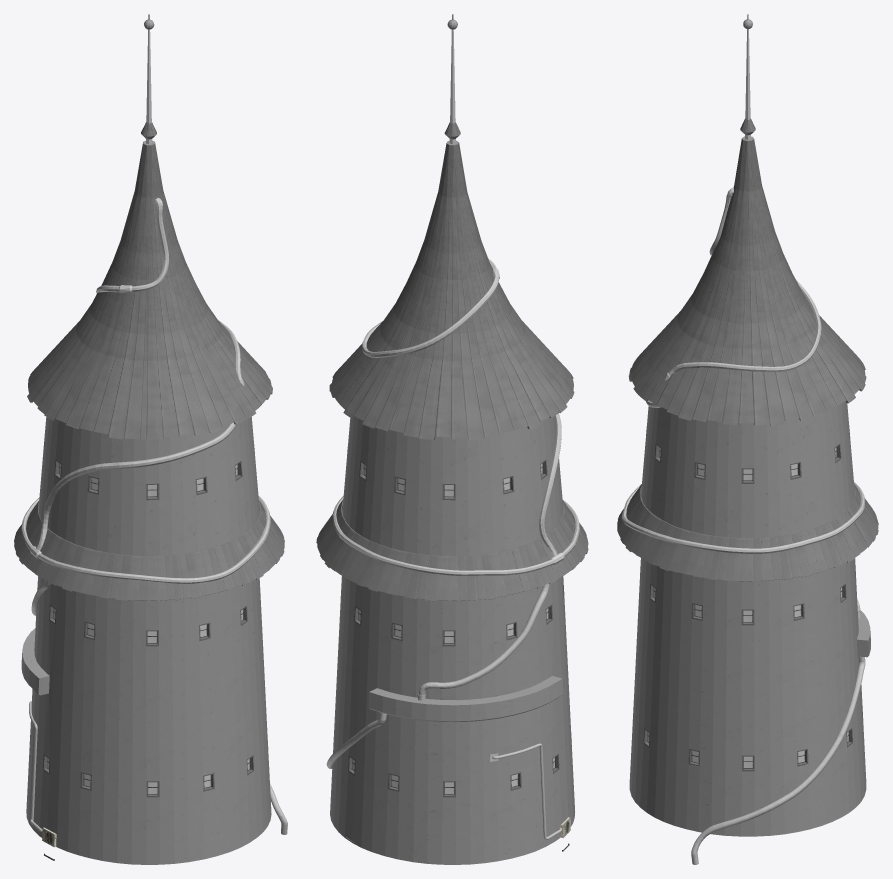
The model's file is SM_ENV_KNVLLG_AreaD_Tower_A_Part03.mo.fbx.
3 views of the same model, side by side, from view 1: azimuth 30°, elevation 25°; view 2: azimuth 150°, elevation 25°; view 3: azimuth 270°, elevation 25° (orthographic). The views are drawn at different scales.
Visible parts, largest first — view 1: SM_ENV_KNVLLG_AreaD_Tower_A_Part03.mo; view 2: SM_ENV_KNVLLG_AreaD_Tower_A_Part03.mo; view 3: SM_ENV_KNVLLG_AreaD_Tower_A_Part03.mo.
Part boxes in pixels (x1=…): SM_ENV_KNVLLG_AreaD_Tower_A_Part03.mo: x1=14, y1=14, x2=287, y2=864; SM_ENV_KNVLLG_AreaD_Tower_A_Part03.mo: x1=316, y1=14, x2=588, y2=864; SM_ENV_KNVLLG_AreaD_Tower_A_Part03.mo: x1=617, y1=14, x2=878, y2=864.
Bounding box in the file's own units: 15.56 × 52.42 × 15.57.
